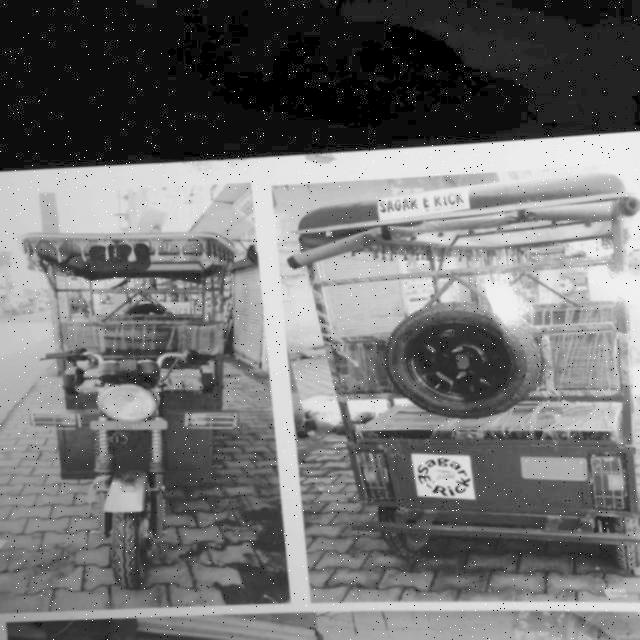Toto: (293, 174, 640, 573), (21, 223, 247, 597)
